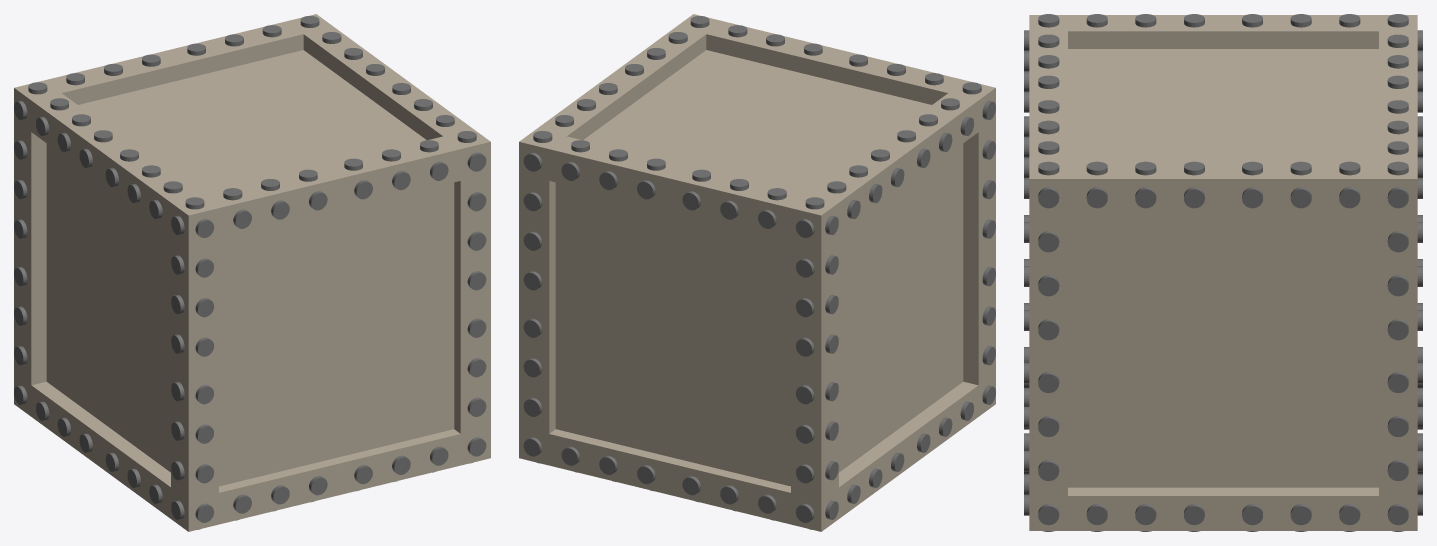
File: StorageContainer.fbx
3 views of the same model, side by side, from view 1: azimuth 30°, elevation 25°; view 2: azimuth 150°, elevation 25°; view 3: azimuth 270°, elevation 25° (orthographic). The views are drawn at different scales.
Visible parts, largest first — view 1: Model, Pins; view 2: Model, Pins; view 3: Model, Pins.
Part boxes in pixels (left/top/right/bottom): Model: left=14, top=14, right=490, bottom=531; Pins: left=14, top=16, right=486, bottom=529; Model: left=519, top=14, right=995, bottom=531; Pins: left=523, top=16, right=995, bottom=529; Model: left=1029, top=15, right=1417, bottom=530; Pins: left=1024, top=14, right=1422, bottom=531.
Bounding box in the file's own units: 2.05 × 2.05 × 2.05.
